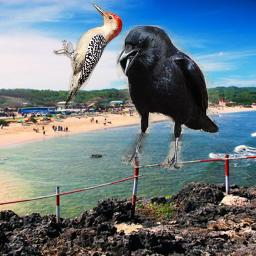Crow: (116, 25, 219, 170)
Woodpecker: (53, 3, 124, 110)
